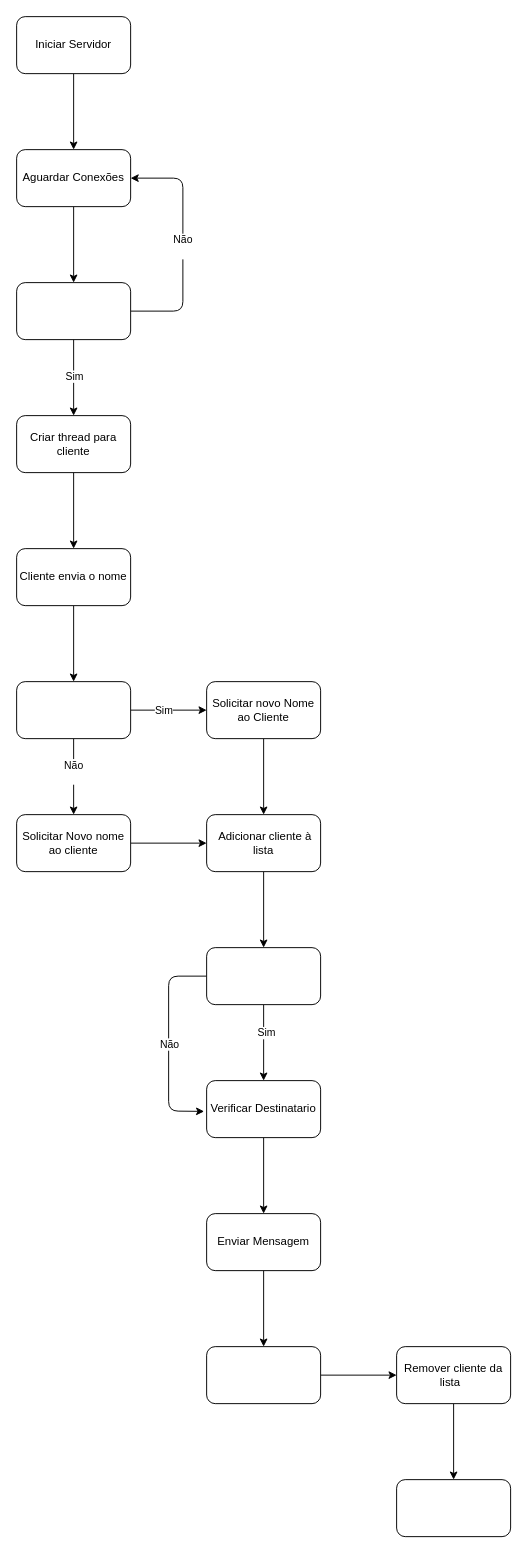
The diagram is 527 pixels wide and 1553 high, and some of its shapes have lost their labels. Each missing label, with the box of its shape:
Cliente Desconecta?: (206, 1346, 321, 1404)
Cliente envia Mensagens?: (206, 947, 321, 1005)
Cliente se conecta?: (16, 282, 131, 340)
Fim da Thread do Cliente: (396, 1479, 511, 1537)
Nome em uso?: (16, 681, 131, 739)
